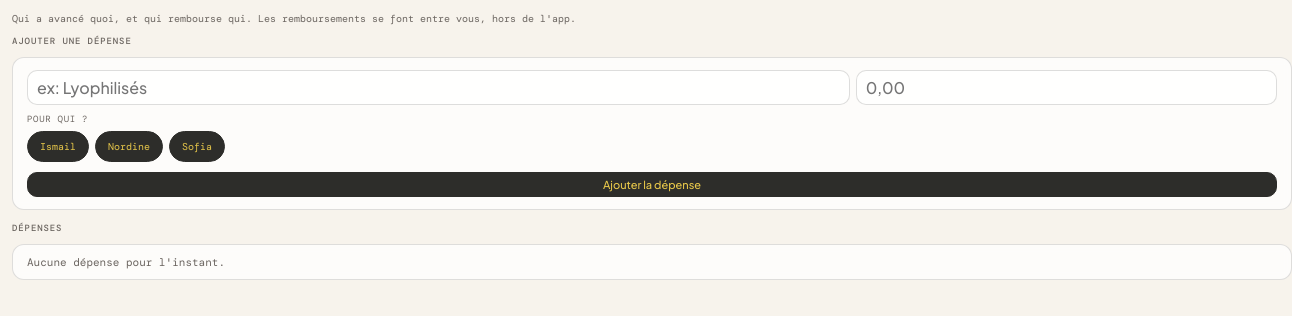
Scenario: ExpensesTab › refuse un montant invalide et n'écrit rien
Type "Refuge" into the field named "Libellé de la dépense" at coordinates (438, 88), box [27, 70, 850, 105]
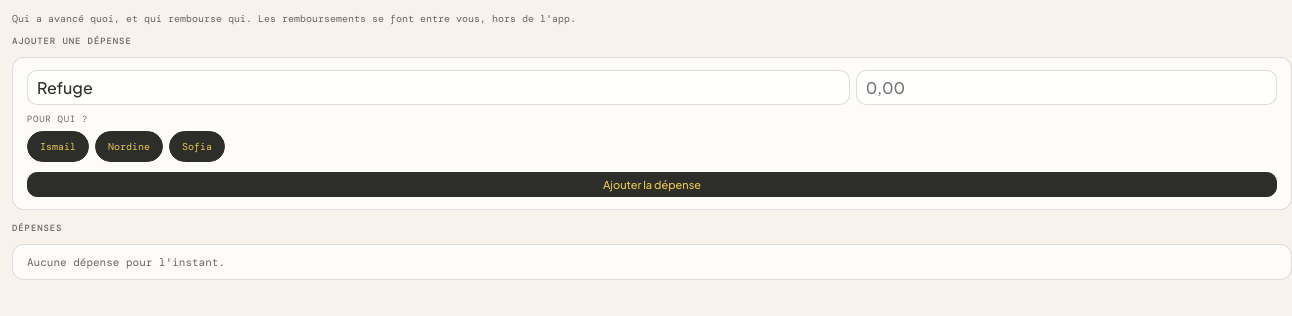
Type "abc" into the field named "Montant en euros" at coordinates (1066, 88), box [856, 70, 1277, 105]
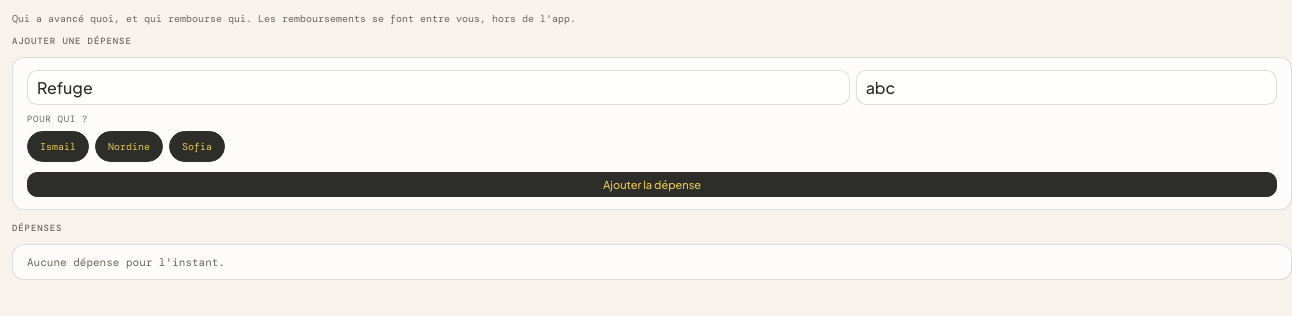
Click the button "Ajouter la dépense" at coordinates (652, 184), box [27, 172, 1277, 197]
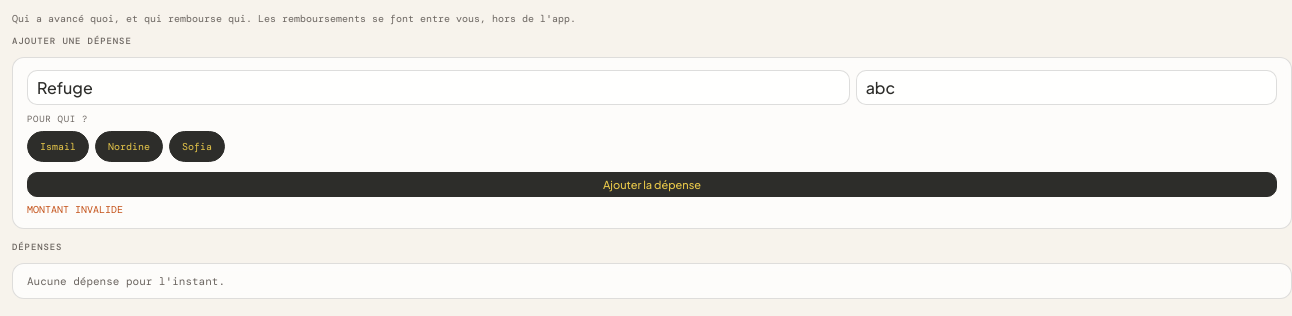
Expected: the message reads "MONTANT INVALIDE", [27, 203, 123, 216]
